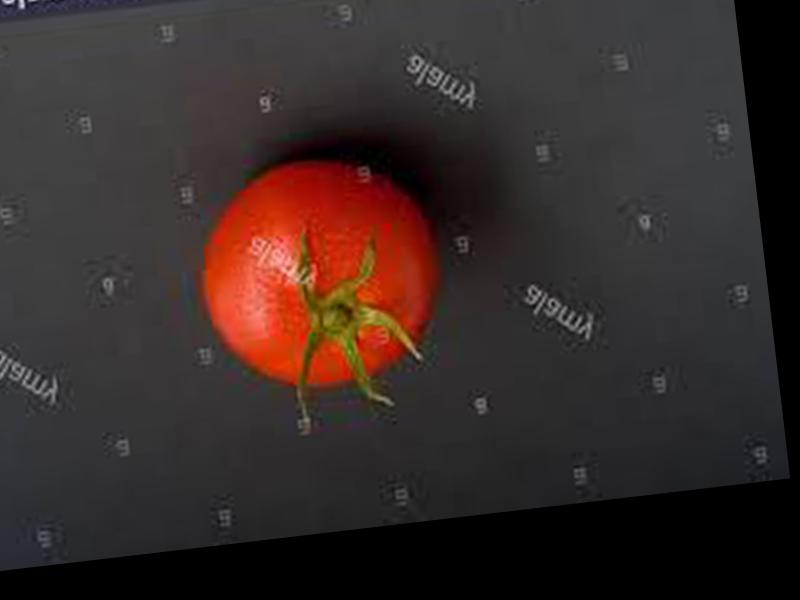Tomato: (190, 155, 452, 400)
